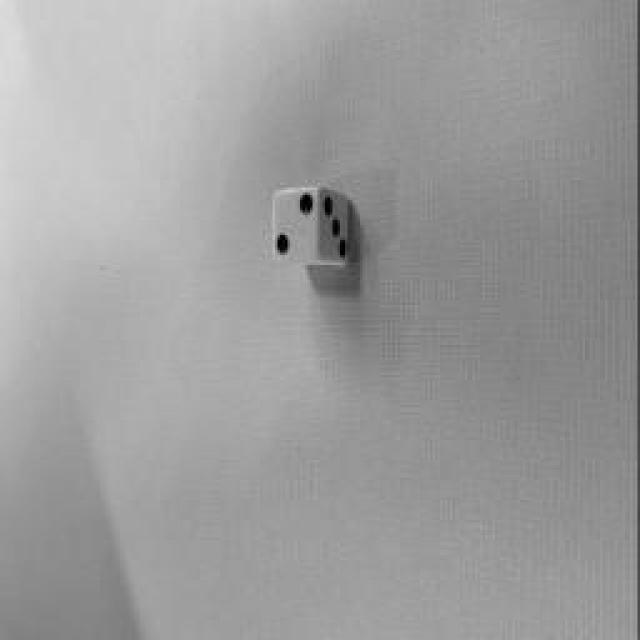dice_2: (275, 188, 320, 262)
